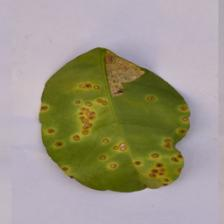canker: (40, 79, 193, 187)
